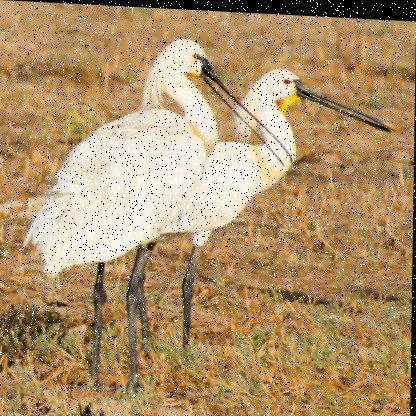Burung: (29, 29, 289, 404), (140, 59, 396, 356)
